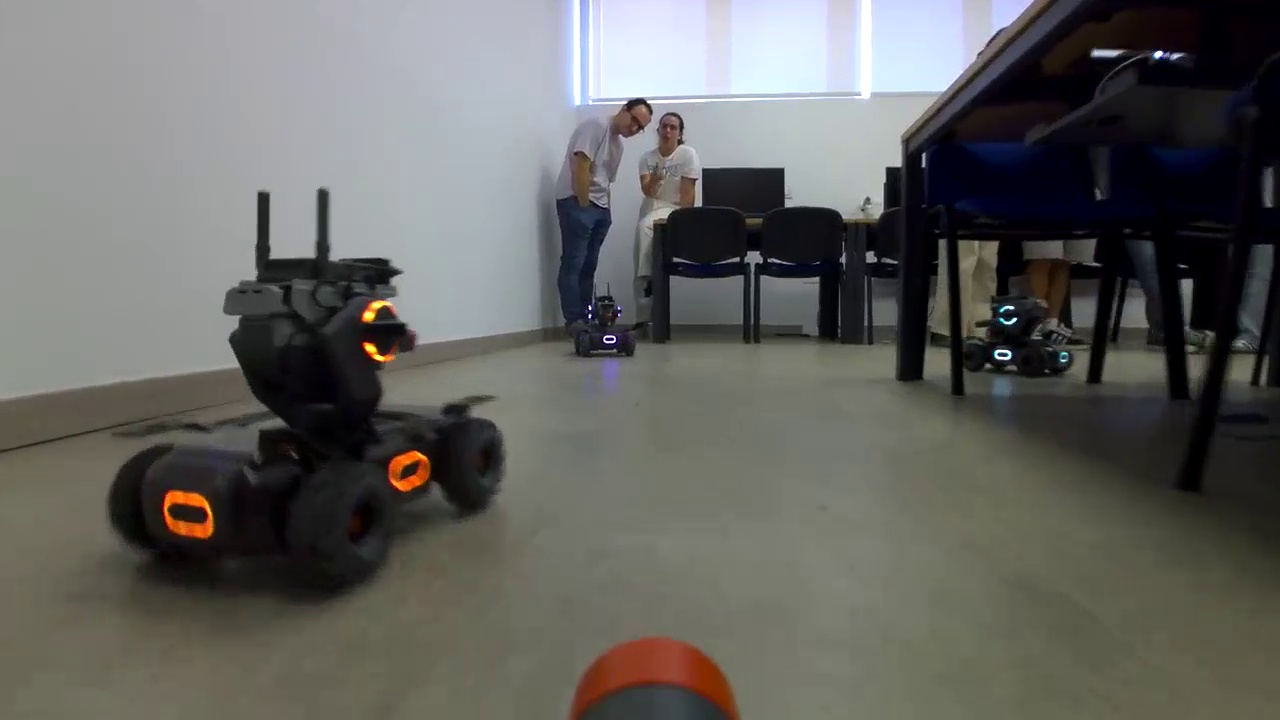robot: (93, 257, 518, 575), (967, 294, 1070, 379), (569, 296, 640, 359)
